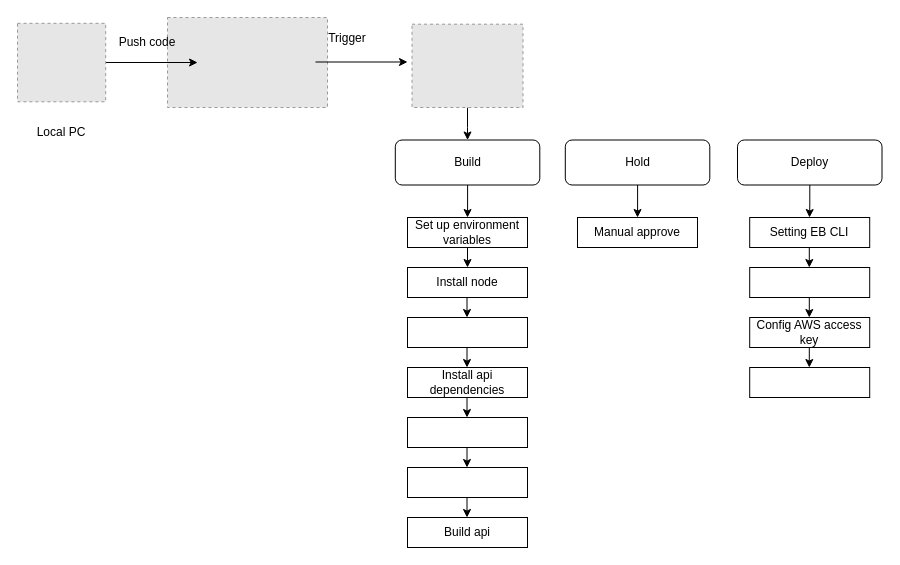
The diagram is 900 pixels wide and 565 high, and some of its shapes have lost their labels. Grey dashed boxes stand in for pictures. Here are the shapes that lost their labels. From the top down, the centre of each, then its label:
[809,282]: Install AWS CLI
[467,332]: Install front-end dependencies
[809,382]: Deploy app
[467,432]: Run front-end lint
[467,482]: Build front-end
